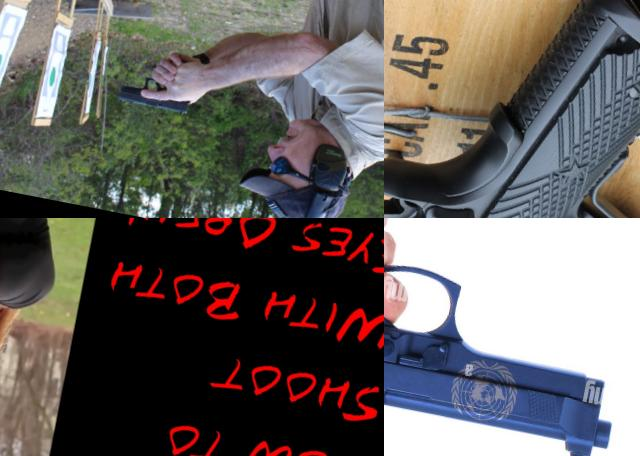handgun: (384, 218, 640, 456), (384, 0, 640, 218), (112, 34, 212, 122), (0, 281, 37, 358)
